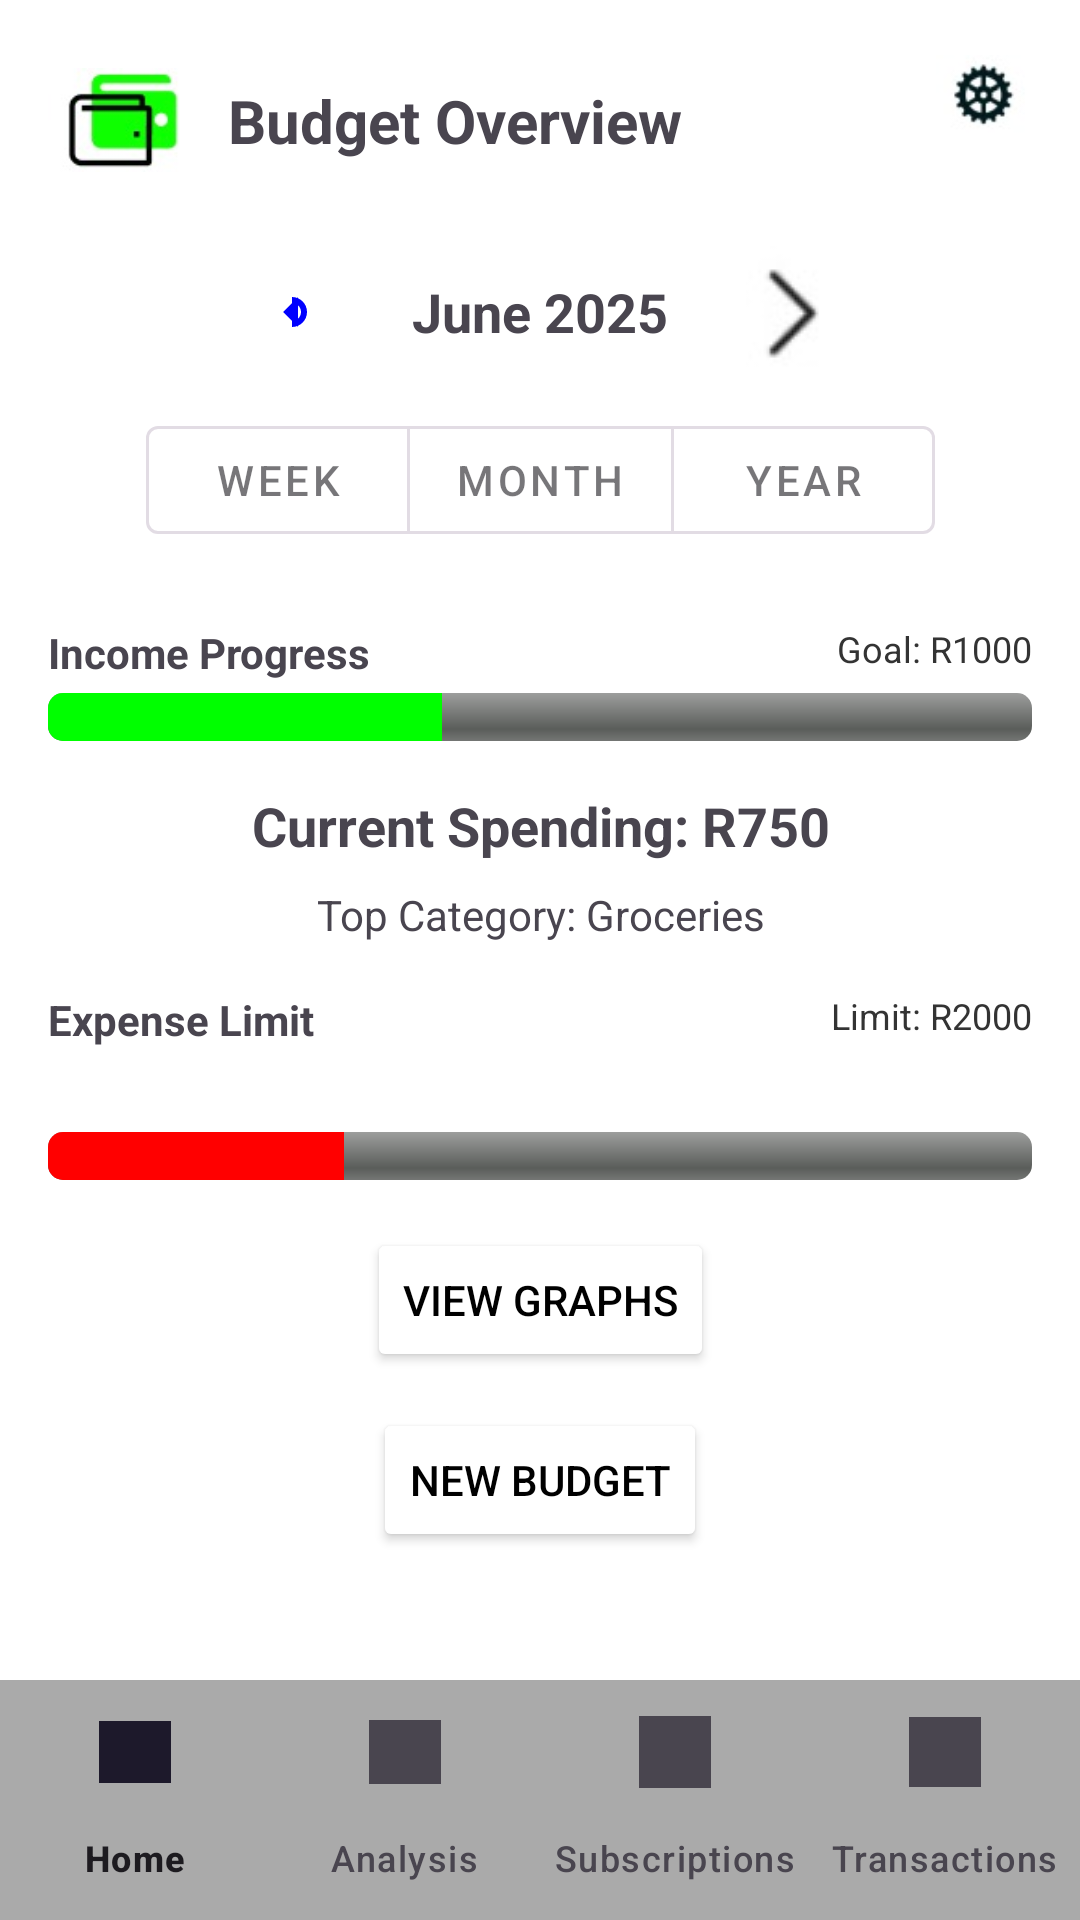

Locate icon controls on the screen. Image size 1080 x 1920, boxes as (x1, y1, x2, y2).
settings: (954, 64, 1014, 125)
wallet: (68, 73, 178, 167)
